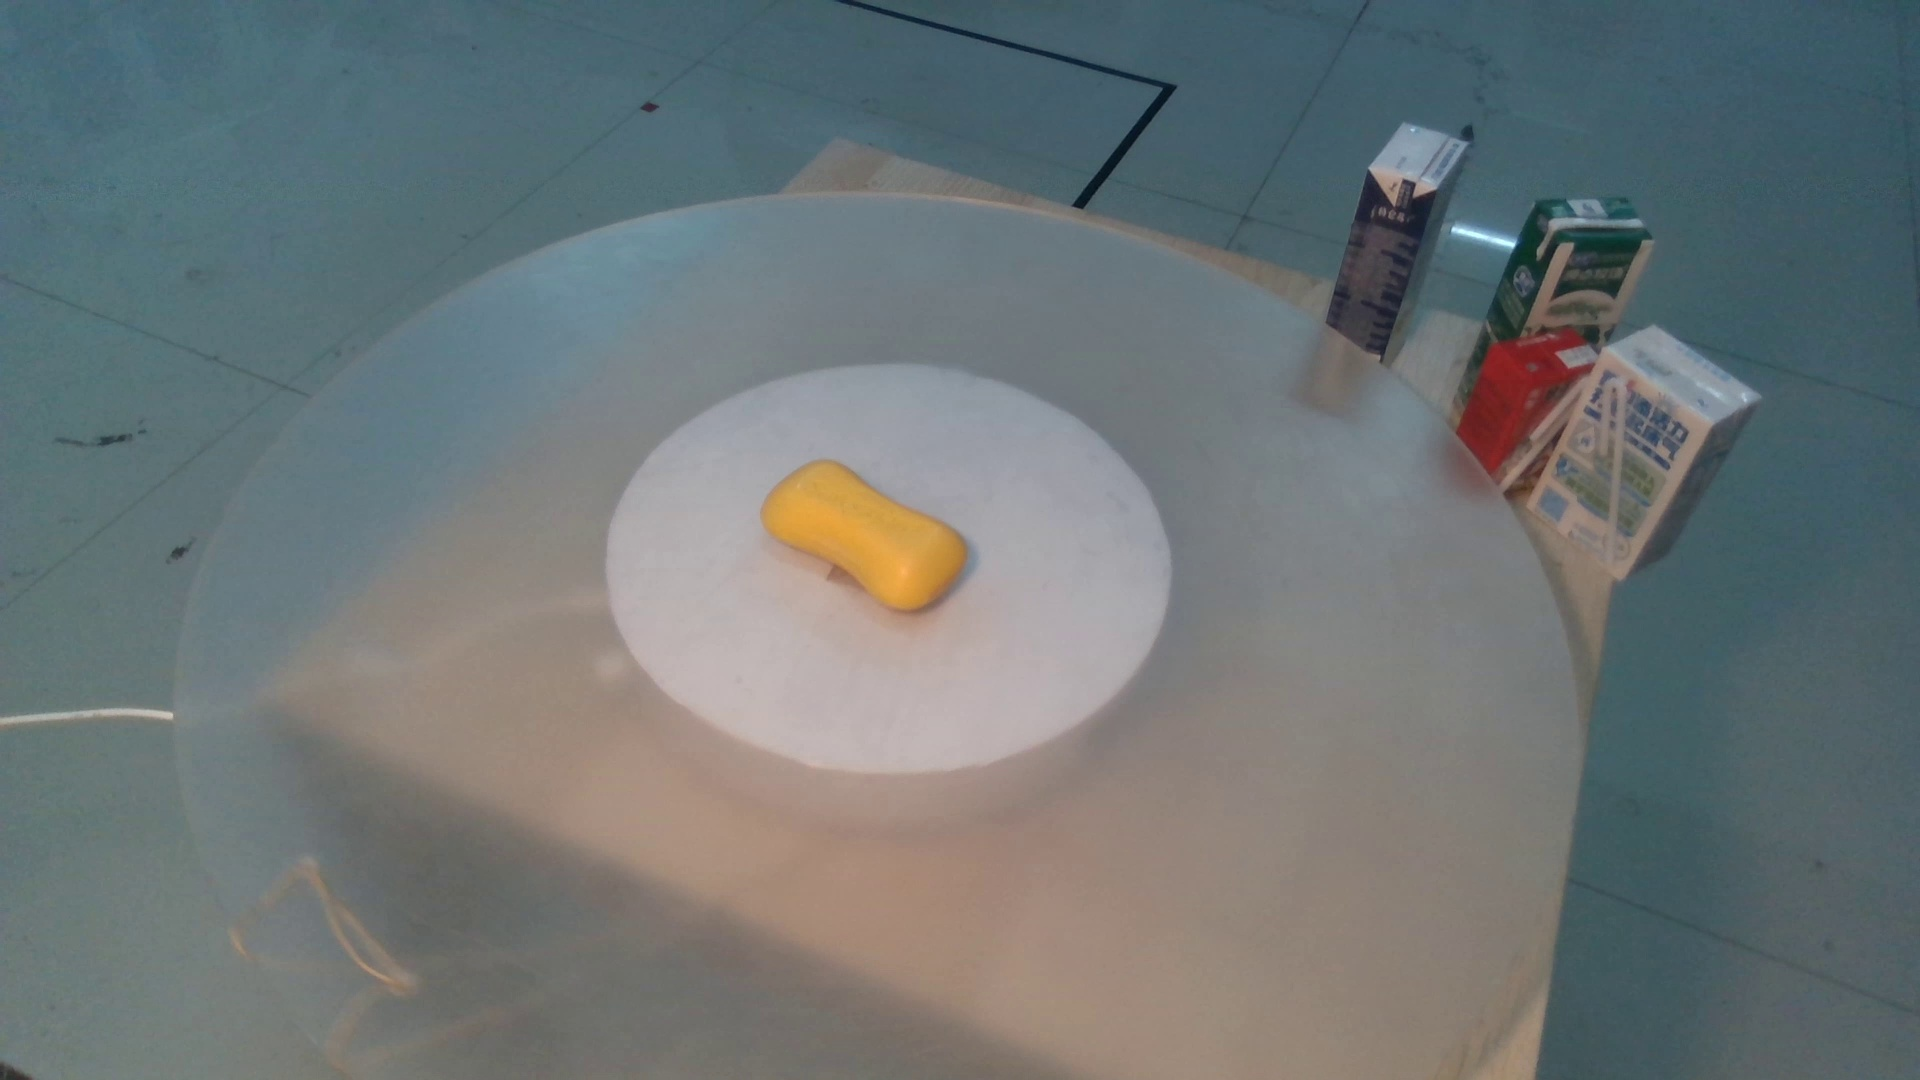CA003_1: (741, 443, 1011, 620)
